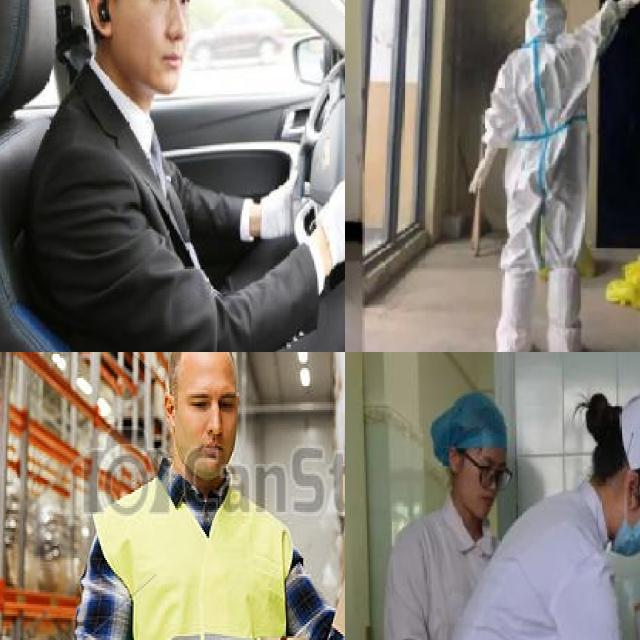No_Ear-Protection: (164, 389, 175, 434)
No_Glasses: (165, 352, 238, 419), (137, 0, 193, 19)
face_mask: (605, 483, 640, 564)
face_nomask: (108, 0, 209, 103), (174, 415, 237, 479), (453, 444, 515, 509)
hand_glove: (260, 170, 318, 240), (317, 154, 345, 271), (466, 150, 492, 195)
head_nohelmet: (435, 403, 513, 465), (628, 389, 640, 515), (169, 352, 186, 395)
person: (32, 0, 345, 352), (465, 0, 640, 352), (444, 394, 640, 640), (393, 389, 508, 640)
